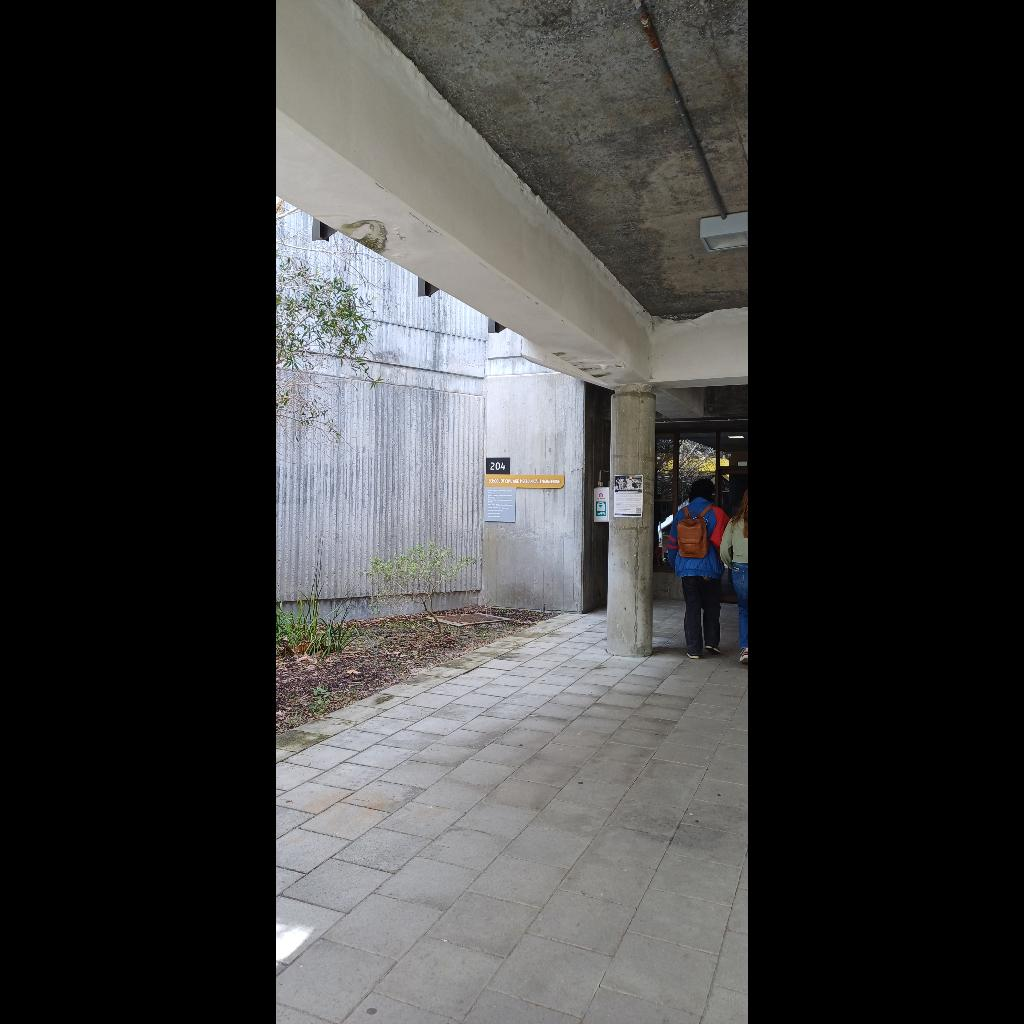BuildingCodes: (489, 460, 505, 472)
